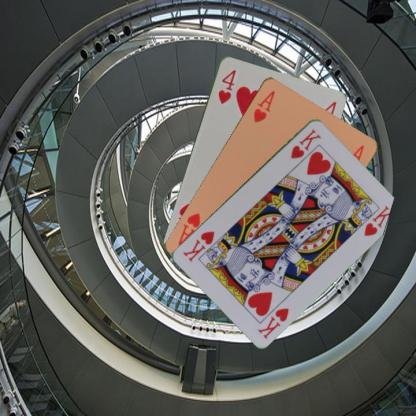4h: (215, 67, 237, 105)
Ah: (251, 87, 276, 124)
Kh: (255, 304, 290, 340), (288, 126, 322, 160)
